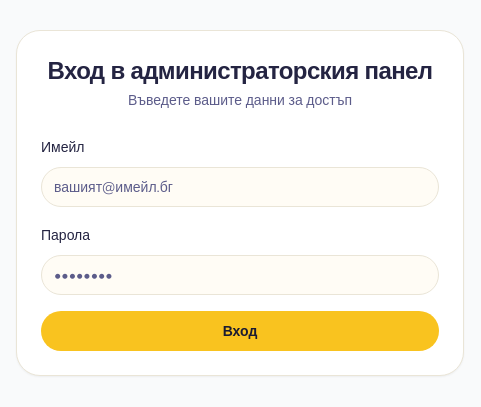
Test: Login Page › Form Validation › should show error when password is empty
The image size is (481, 407).
Type "test@test.com" into the field labelled "Имейл".
click(240, 187); type("test@test.com")  # box x1=41 y1=167 x2=439 y2=207
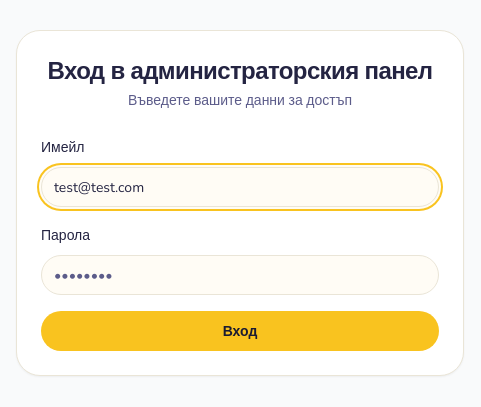
Click the button "Вход".
click(240, 331)  # box x1=41 y1=311 x2=439 y2=351
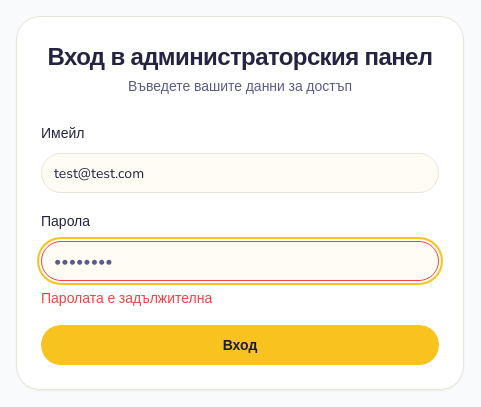
expect the text "Паролата е задължителна" is shown: met, box x1=41 y1=289 x2=212 y2=308
